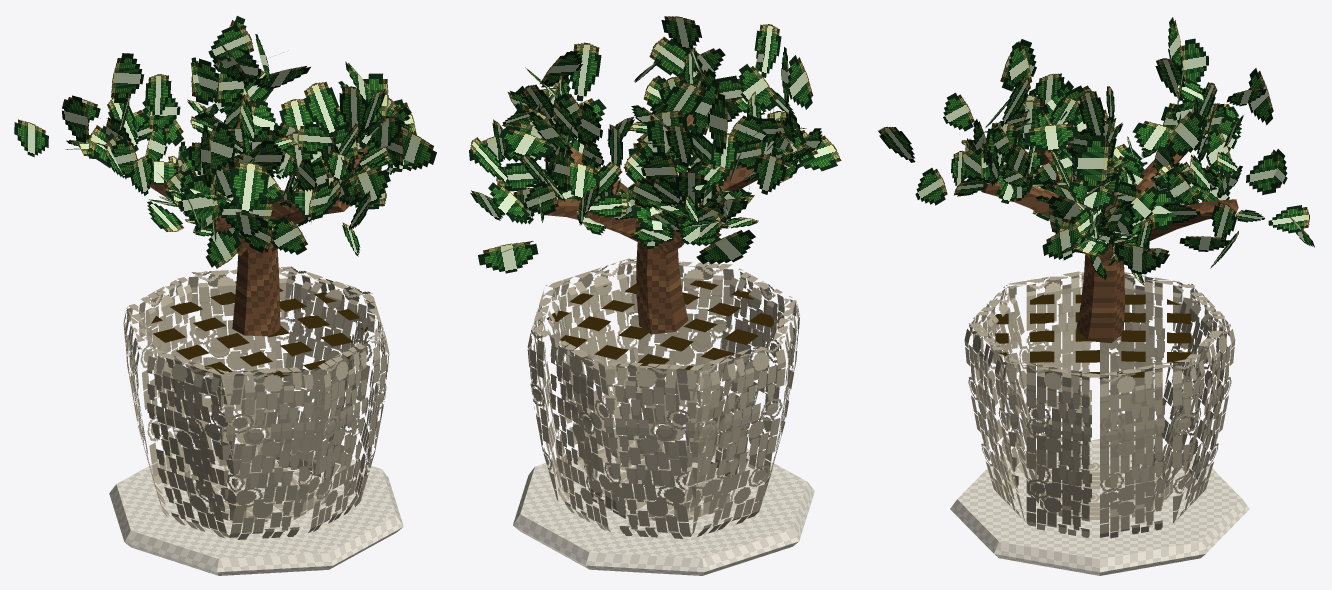
File: jade.obj
The picture shows the model from 3 angles, left to right: view 1: azimuth 30°, elevation 25°; view 2: azimuth 150°, elevation 25°; view 3: azimuth 270°, elevation 25°; orthographic projection. The views are drawn at different scales.
Parts seen in each view (by area): view 1: Pot, Saucer, Soil, Trunk_Main, Leaf_094, Leaf_099, Leaf_088, Leaf_055, Leaf_041, Leaf_107, Leaf_092, Leaf_104 (+27 smaller); view 2: Pot, Saucer, Soil, Trunk_Main, Leaf_028, Leaf_064, Leaf_021, Branch_01, Leaf_112, Leaf_087, Leaf_044, Leaf_118 (+35 smaller); view 3: Pot, Saucer, Soil, Trunk_Main, Leaf_004, Leaf_026, Leaf_105, Leaf_014, Leaf_060, Leaf_132, Leaf_118, Leaf_045 (+23 smaller).
Boxes of the visible parts, x1,y1,x2,y2 form: Pot: [123, 266, 389, 539]; Saucer: [109, 442, 403, 575]; Soil: [151, 288, 369, 377]; Trunk_Main: [232, 246, 280, 336]; Leaf_094: [229, 162, 268, 215]; Leaf_099: [303, 81, 338, 137]; Leaf_088: [178, 175, 219, 229]; Leaf_055: [111, 53, 144, 103]; Leaf_041: [208, 24, 253, 61]; Leaf_107: [341, 167, 390, 204]; Leaf_092: [209, 122, 235, 174]; Leaf_104: [271, 216, 307, 254]; Pot: [527, 258, 799, 538]; Saucer: [513, 438, 814, 575]; Soil: [546, 280, 774, 370]; Trunk_Main: [636, 175, 688, 334]; Leaf_028: [478, 241, 538, 273]; Leaf_064: [696, 230, 755, 264]; Leaf_021: [569, 42, 601, 101]; Branch_01: [545, 198, 643, 244]; Leaf_112: [649, 37, 700, 79]; Leaf_087: [738, 64, 777, 110]; Leaf_044: [498, 128, 553, 156]; Leaf_118: [661, 82, 703, 117]; Pot: [964, 271, 1235, 538]; Saucer: [950, 439, 1249, 575]; Soil: [995, 294, 1191, 377]; Trunk_Main: [1076, 192, 1124, 343]; Leaf_004: [1074, 135, 1108, 191]; Leaf_026: [1166, 110, 1202, 156]; Leaf_105: [1024, 123, 1078, 152]; Leaf_014: [1114, 242, 1160, 274]; Leaf_060: [1181, 38, 1208, 83]; Leaf_132: [1132, 121, 1173, 152]; Leaf_118: [1078, 91, 1105, 135]; Leaf_045: [1246, 153, 1280, 194].
Size of the model in its own units: 2.06 by 2.73 by 2.43.
